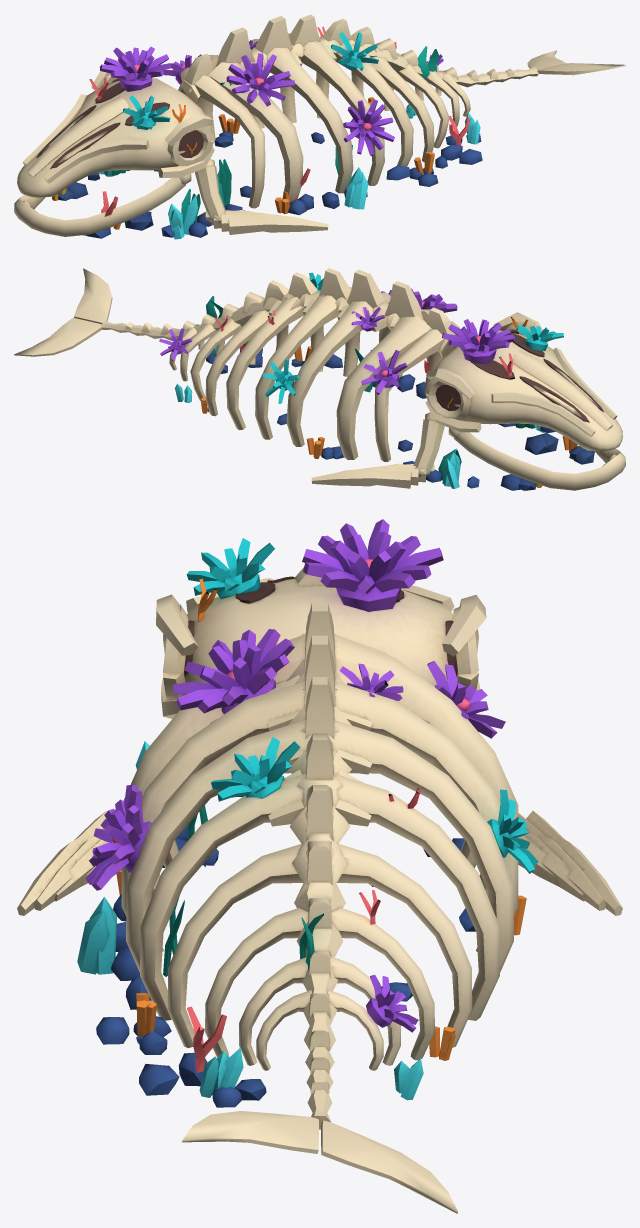
File: MB_LM_WhaleSkeleton_v3.fbx
3 renders of one model, top to bottom at view 1: azimuth 30°, elevation 25°; view 2: azimuth 150°, elevation 25°; view 3: azimuth 270°, elevation 25°, orthographic. The views are drawn at different scales.
Visible parts, largest first — view 1: Bones, Anemones, Rocks, Corals, Crystals, Kelp; view 2: Bones, Anemones, Rocks, Corals, Crystals, Kelp; view 3: Bones, Anemones, Rocks, Crystals, Corals, Kelp.
Boxes of the visible parts, x1,y1,x2,y2 form: Bones: (14, 14, 625, 236); Anemones: (100, 32, 443, 155); Rocks: (58, 131, 482, 238); Corals: (52, 26, 469, 229); Crystals: (99, 104, 480, 239); Kelp: (112, 46, 439, 224); Bones: (14, 268, 625, 490); Anemones: (159, 272, 563, 403); Rocks: (206, 348, 594, 490); Corals: (201, 310, 577, 487); Crystals: (175, 346, 544, 488); Kelp: (206, 296, 533, 480); Bones: (17, 567, 622, 1213); Anemones: (85, 519, 538, 1032); Rocks: (96, 796, 475, 1107); Crystals: (77, 741, 423, 1100); Corals: (116, 578, 526, 1072); Kelp: (163, 805, 323, 976).
Size of the model in its own units: 20145 by 5193 by 9212.
Materials: 1 (1 with a texture image).
